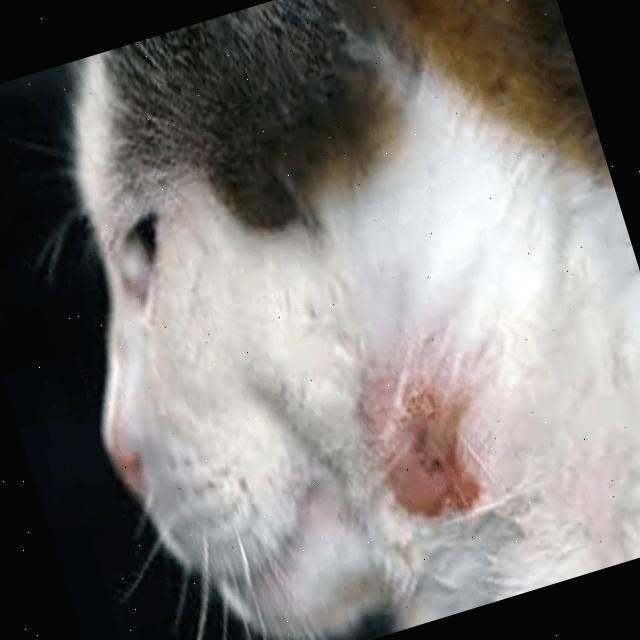cat-lump-and-bump: (346, 350, 502, 540)
